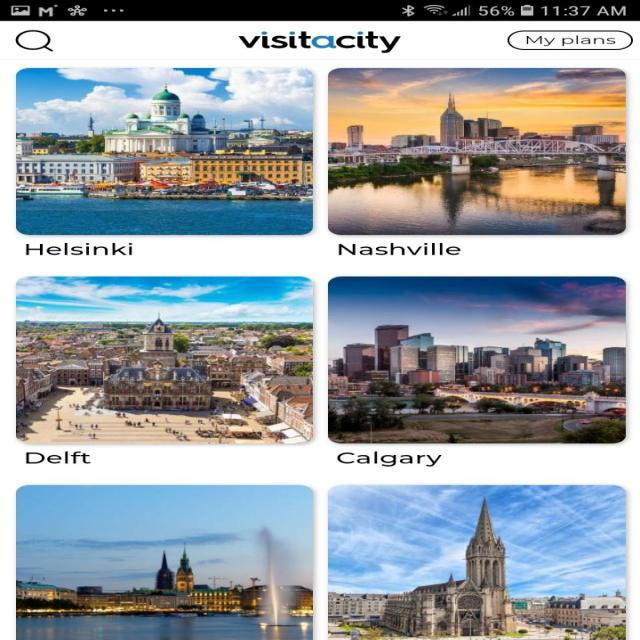Icon: (15, 30, 53, 52)
Image: (327, 276, 625, 443), (327, 68, 625, 235), (16, 276, 313, 443), (16, 68, 313, 235), (327, 484, 625, 640), (16, 485, 312, 640), (237, 31, 401, 53)
Text: (336, 450, 442, 467), (338, 243, 460, 255), (24, 242, 132, 255), (25, 451, 91, 464)
TextButton: (507, 30, 633, 50)
